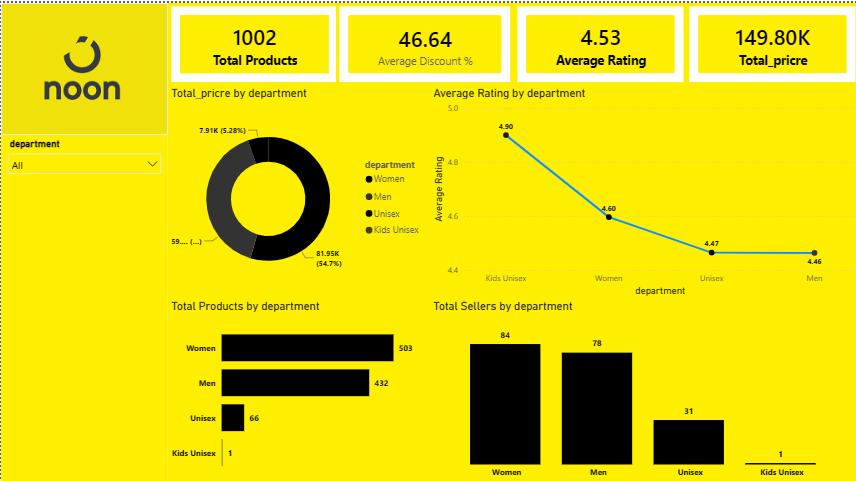

The dashboard page shown, as its layout file describes it:
{"tool":"powerbi","page":{"name":"department","canvas":[1280,720],"ordinal":2},"visuals":[{"type":"image","box":[0,0,249.3,197],"z":0},{"type":"slicer","fields":{"Values":["noon_perfumes_clean.department"]},"box":[0,197,249.3,522.4],"z":1000},{"type":"cardVisual","fields":{"Data":["noon_perfumes_clean.Total_pricre"]},"box":[1021.8,0,258.2,123.9],"z":2000},{"type":"cardVisual","fields":{"Data":["noon_perfumes_clean.Average Rating"]},"box":[765.7,0,258.2,123.9],"z":3000},{"type":"cardVisual","fields":{"Data":["noon_perfumes_clean.Total Products"]},"box":[249.3,0,258.2,123.9],"z":4000},{"type":"cardVisual","fields":{"Data":["noon_perfumes_clean.Average Discount %"]},"box":[500,0,265.7,123.9],"z":5000},{"type":"donutChart","fields":{"Category":["noon_perfumes_clean.department"],"Y":["noon_perfumes_clean.Total_pricre"]},"box":[249.3,123.9,391,317.9],"z":6000},{"type":"lineChart","fields":{"Category":["noon_perfumes_clean.department"],"Y":["noon_perfumes_clean.Average Rating"]},"box":[640.3,123.9,640.3,317.9],"z":7000},{"type":"clusteredBarChart","fields":{"Category":["noon_perfumes_clean.department"],"Y":["noon_perfumes_clean.Total Products"]},"box":[249,442,391,277],"z":8000},{"type":"clusteredColumnChart","fields":{"Category":["noon_perfumes_clean.department"],"Y":["noon_perfumes_clean.Total Sellers"]},"box":[640,442,640,277],"z":9000}]}

Visuals, with their boxes in screenshot pixels (x1, y1, x2, y2), scaled from the page's 1280x720 canvas onto the 856x481 screenshot:
image: select_region(0, 0, 167, 132)
slicer - noon_perfumes_clean.department: select_region(0, 132, 167, 480)
cardVisual - noon_perfumes_clean.Total_pricre: select_region(683, 0, 855, 83)
cardVisual - noon_perfumes_clean.Average Rating: select_region(512, 0, 685, 83)
cardVisual - noon_perfumes_clean.Total Products: select_region(167, 0, 339, 83)
cardVisual - noon_perfumes_clean.Average Discount %: select_region(334, 0, 512, 83)
donutChart - noon_perfumes_clean.department x noon_perfumes_clean.Total_pricre: select_region(167, 83, 428, 295)
lineChart - noon_perfumes_clean.department x noon_perfumes_clean.Average Rating: select_region(428, 83, 855, 295)
clusteredBarChart - noon_perfumes_clean.department x noon_perfumes_clean.Total Products: select_region(167, 295, 428, 480)
clusteredColumnChart - noon_perfumes_clean.department x noon_perfumes_clean.Total Sellers: select_region(428, 295, 855, 480)
